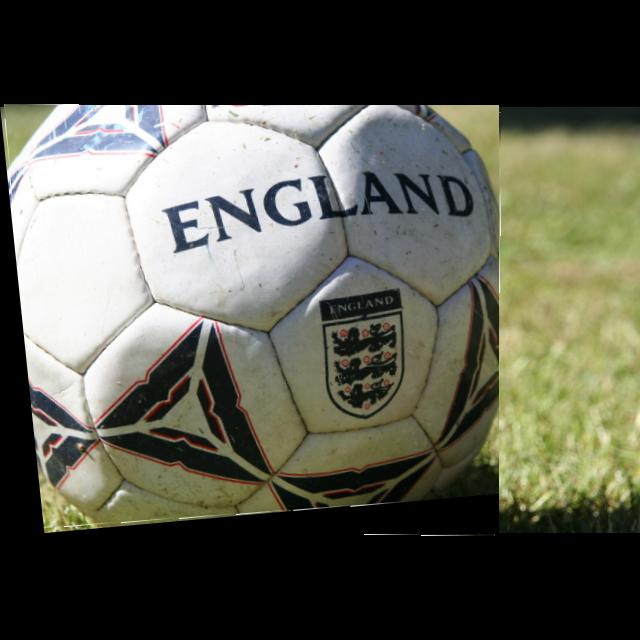Football: (0, 105, 499, 534)
